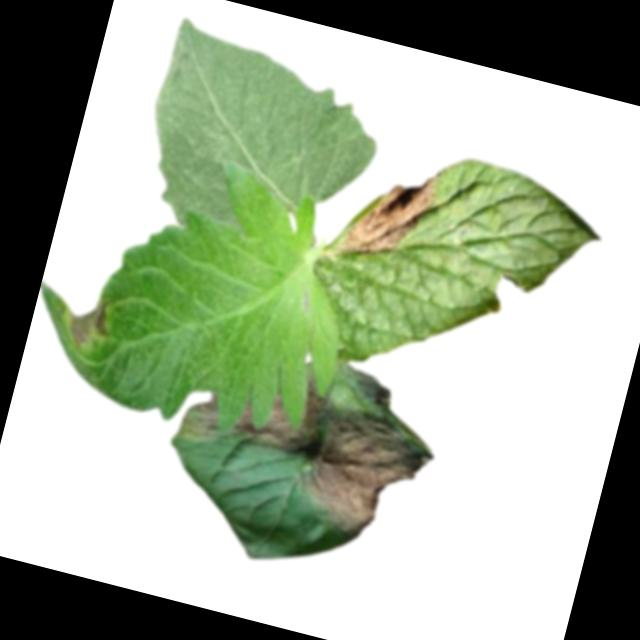Late_blight: (294, 398, 436, 550), (177, 360, 327, 470), (328, 151, 447, 281), (54, 282, 119, 358), (331, 362, 396, 411)
